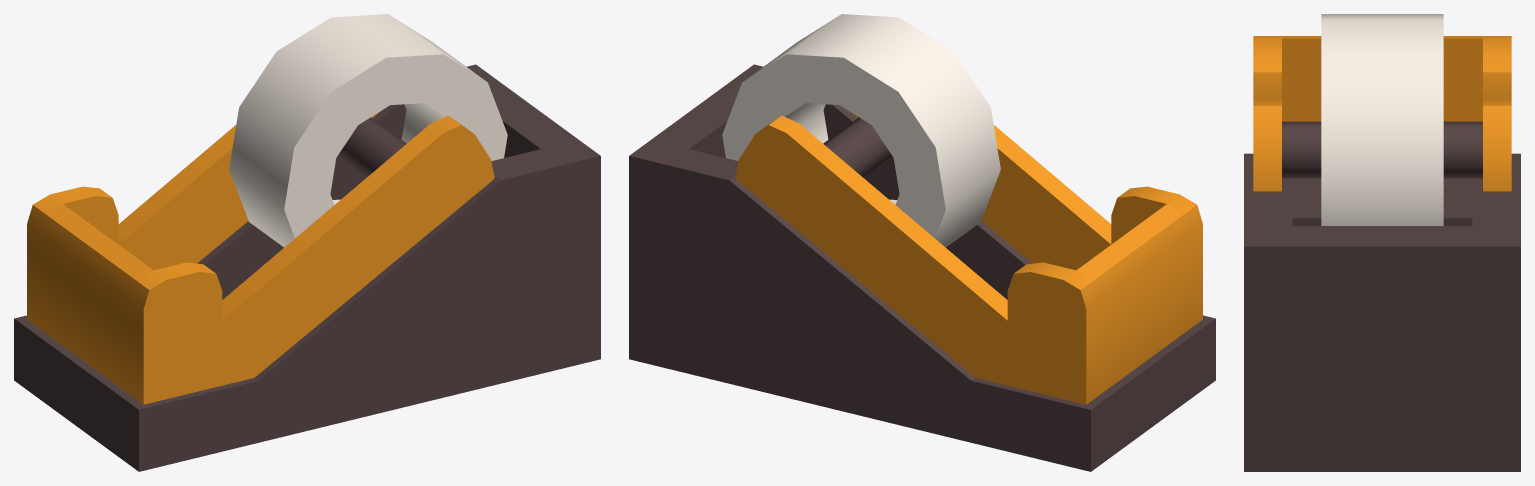
Rendered from Tape_Cutter.fbx.
3 renders of one model, left to right at view 1: azimuth 30°, elevation 25°; view 2: azimuth 150°, elevation 25°; view 3: azimuth 270°, elevation 25°, orthographic. The views are drawn at different scales.
Parts seen in each view (by area): view 1: Tape_Cutter; view 2: Tape_Cutter; view 3: Tape_Cutter.
Part boxes in pixels (x1,y1,x2,y2): Tape_Cutter: [14, 14, 600, 471]; Tape_Cutter: [629, 14, 1215, 471]; Tape_Cutter: [1244, 14, 1520, 471].
Size of the model in its own units: 33.13 by 21.93 by 15.52.
